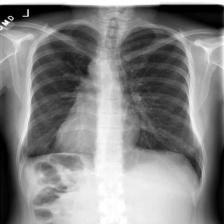normal: (15, 17, 206, 193)
